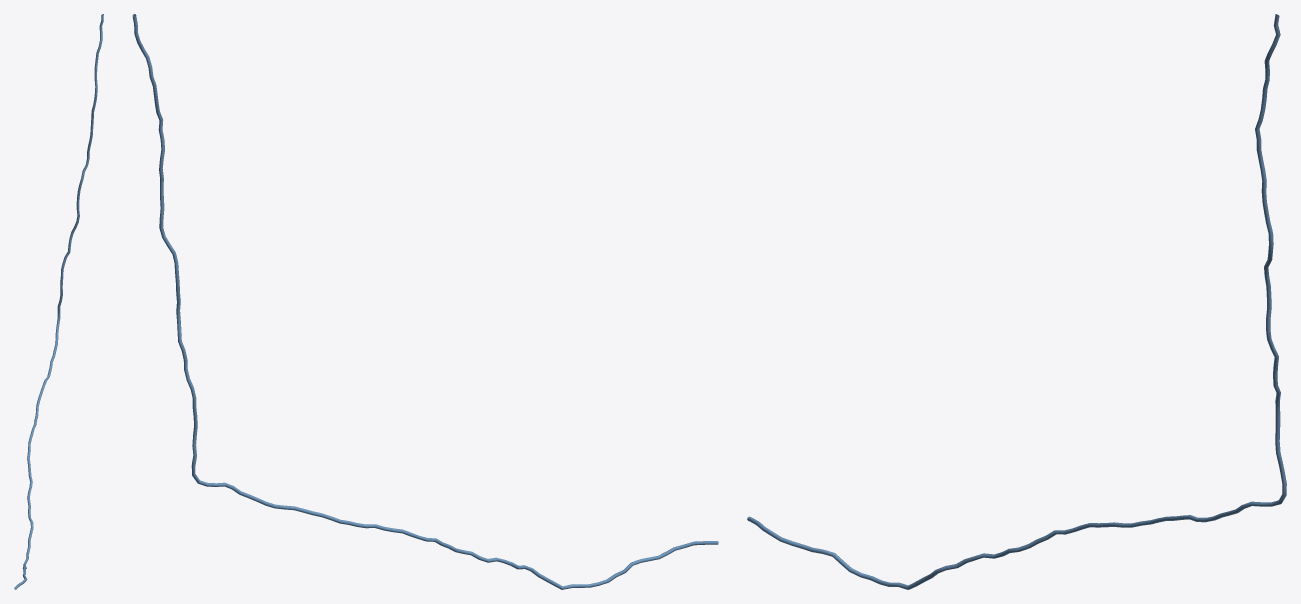
Rendered from sweep168.fbx.
3 views of the same model, side by side, from view 1: azimuth 30°, elevation 25°; view 2: azimuth 150°, elevation 25°; view 3: azimuth 270°, elevation 25° (orthographic). The views are drawn at different scales.
Parts seen in each view (by area): view 1: sweep168; view 2: sweep168; view 3: sweep168.
Part boxes in pixels (box(x1,y1,x2,y2)): sweep168: box(14, 14, 103, 589); sweep168: box(132, 14, 718, 589); sweep168: box(747, 14, 1286, 589).
Size of the model in its own units: 2.1 by 3.5 by 2.33.
